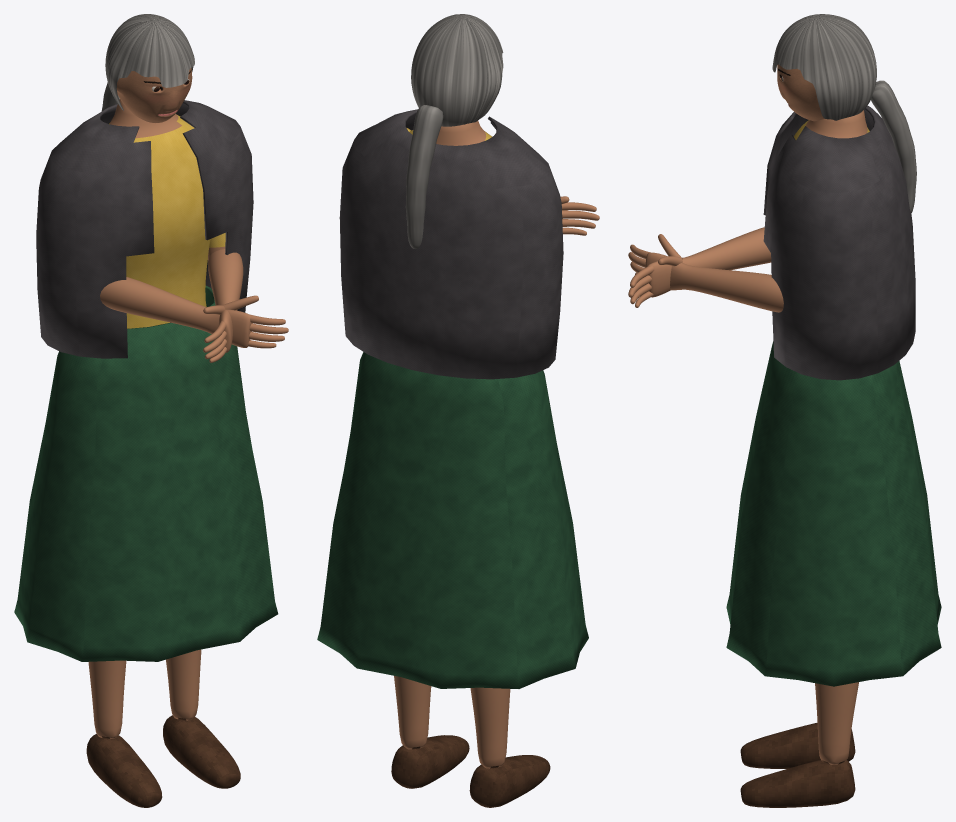
The model's file is persona_mujer_c.obj.
3 renders of one model, left to right at view 1: azimuth 30°, elevation 25°; view 2: azimuth 150°, elevation 25°; view 3: azimuth 270°, elevation 25°, orthographic. The views are drawn at different scales.
Visible parts, largest first — view 1: Falda, Rebozo, Torso, PiernaDer, PiernaIzq, AntebrazoDer, Pelo, AntebrazoIzq, Cabeza; view 2: Falda, Rebozo, Pelo, PiernaDer, PiernaIzq, AntebrazoIzq, Torso; view 3: Falda, Rebozo, Pelo, PiernaIzq, AntebrazoIzq, AntebrazoDer, PiernaDer, Cabeza, Torso.
Boxes of the visible parts, left/top/right/bottom form: Falda: left=14, top=285, right=278, bottom=661; Rebozo: left=36, top=100, right=253, bottom=358; Torso: left=109, top=99, right=210, bottom=328; PiernaDer: left=86, top=660, right=162, bottom=807; PiernaIzq: left=163, top=649, right=240, bottom=788; AntebrazoDer: left=100, top=277, right=288, bottom=348; Pelo: left=101, top=14, right=194, bottom=110; AntebrazoIzq: left=203, top=249, right=243, bottom=362; Cabeza: left=116, top=68, right=192, bottom=122; Falda: left=317, top=352, right=588, bottom=688; Rebozo: left=339, top=109, right=563, bottom=379; Pelo: left=405, top=14, right=503, bottom=248; PiernaDer: left=469, top=687, right=550, bottom=807; PiernaIzq: left=391, top=676, right=469, bottom=788; AntebrazoIzq: left=560, top=196, right=599, bottom=235; Torso: left=409, top=120, right=492, bottom=145; Falda: left=726, top=341, right=941, bottom=686; Rebozo: left=763, top=105, right=915, bottom=380; Pelo: left=772, top=14, right=916, bottom=213; PiernaIzq: left=740, top=682, right=858, bottom=807; AntebrazoIzq: left=628, top=234, right=783, bottom=312; AntebrazoDer: left=628, top=227, right=771, bottom=307; PiernaDer: left=740, top=722, right=855, bottom=768; Cabeza: left=777, top=64, right=824, bottom=121; Torso: left=794, top=110, right=869, bottom=139.
Size of the model in its own units: 0.5356 by 1.62 by 0.599.
Materials: 12 (12 with a texture image).
